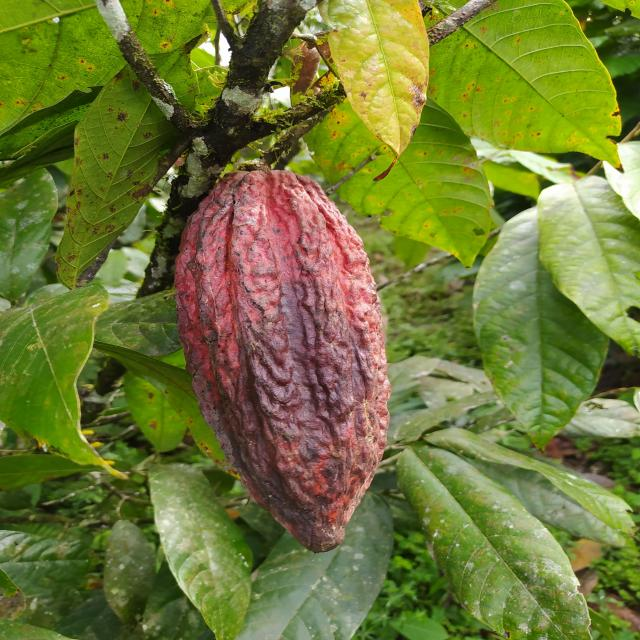Fitoftora: (171, 164, 391, 555)
